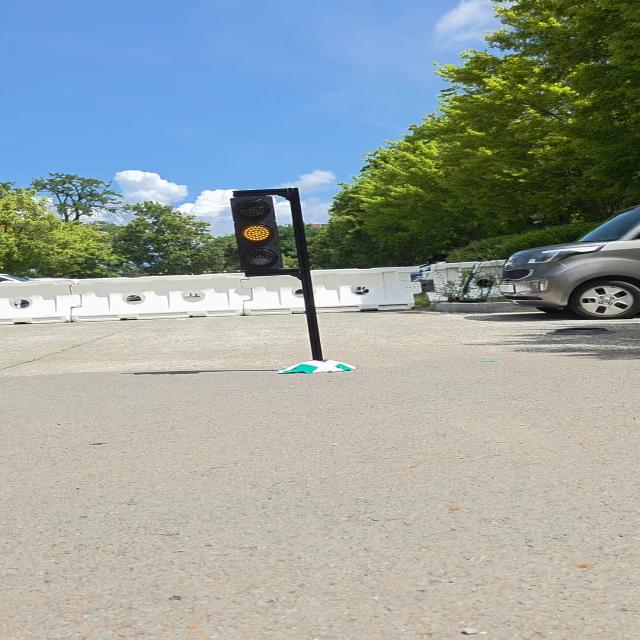yellow: (229, 196, 285, 270)
